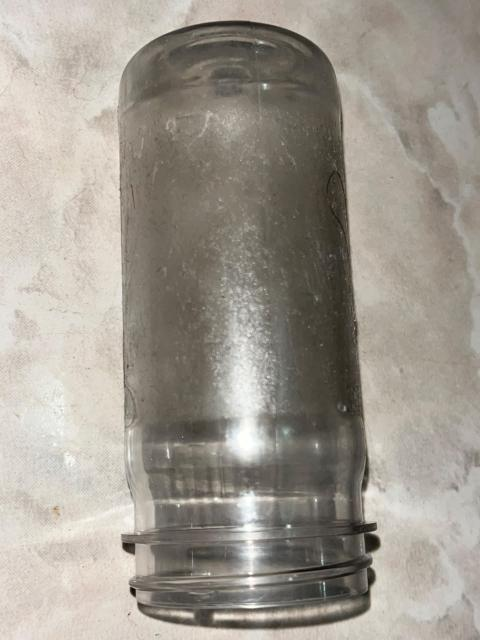PET: (94, 19, 389, 634)
